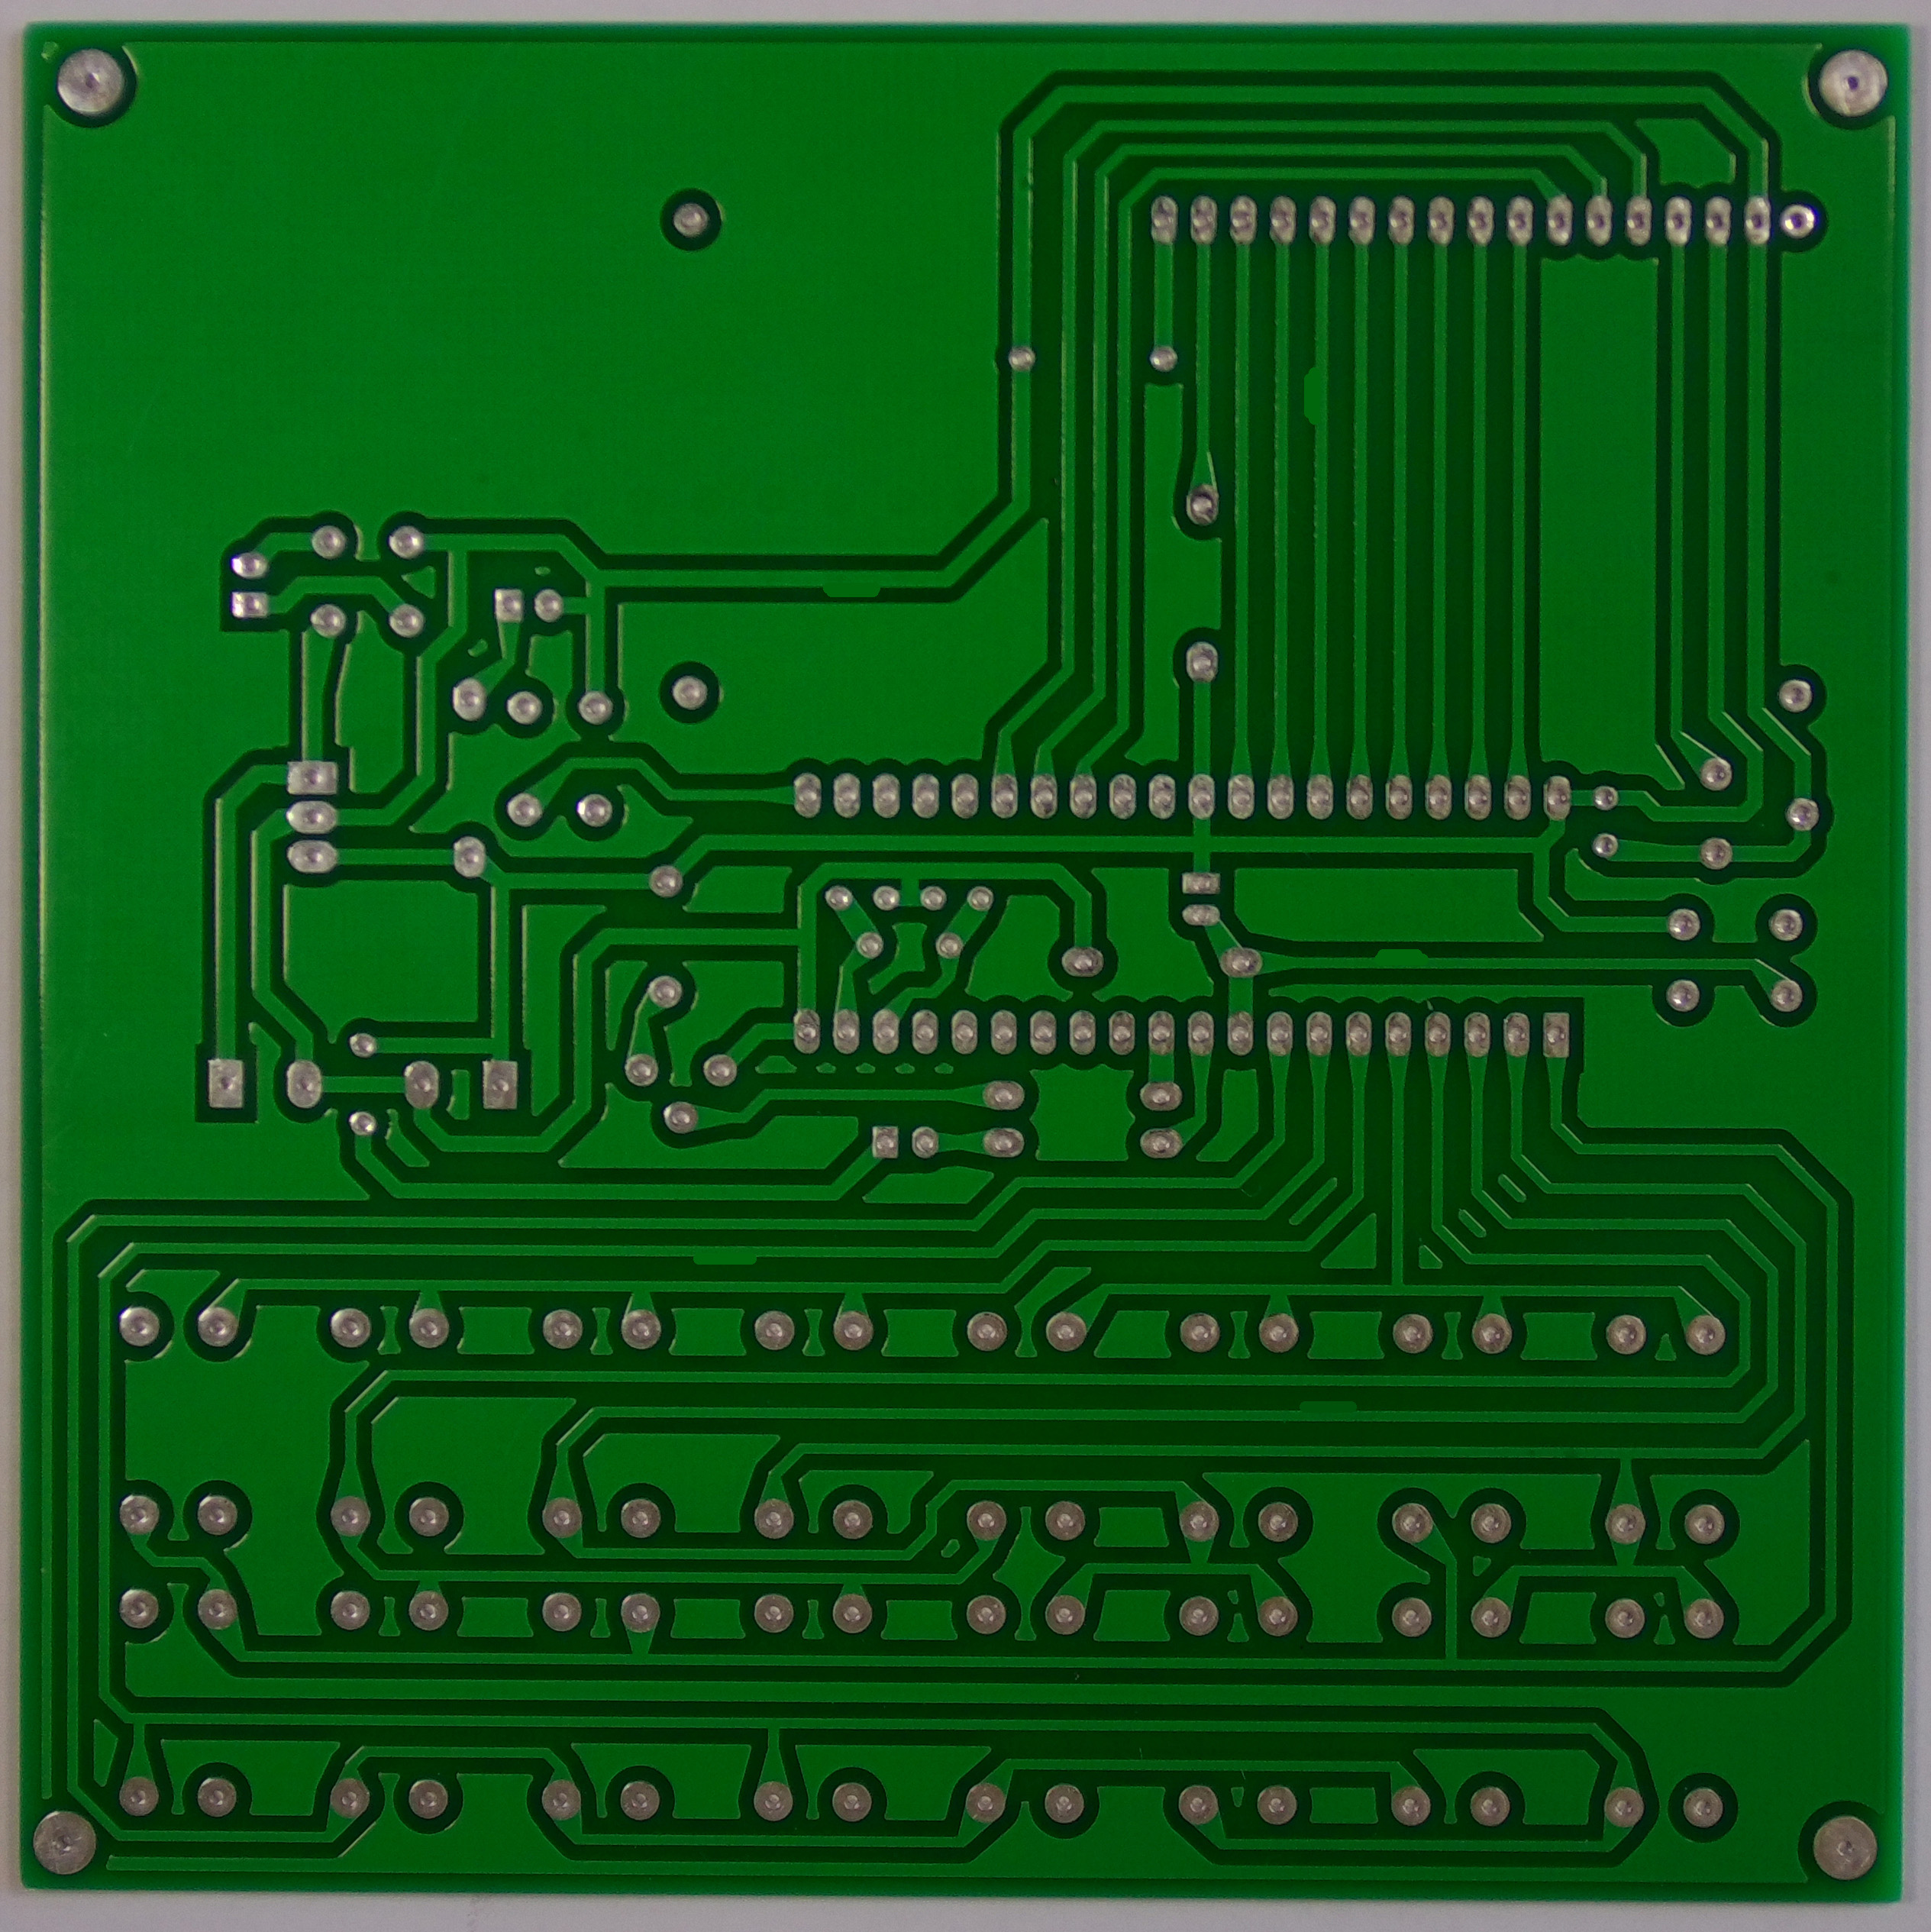spur: (806, 561, 891, 606), (677, 1233, 769, 1274), (1288, 359, 1335, 435), (1355, 938, 1444, 975), (1287, 1391, 1371, 1426)
